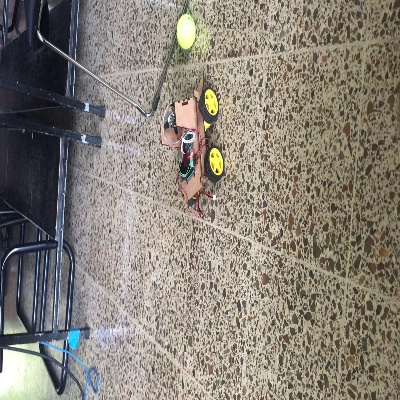Ball: (176, 14, 196, 49)
Robot: (160, 69, 224, 209)
